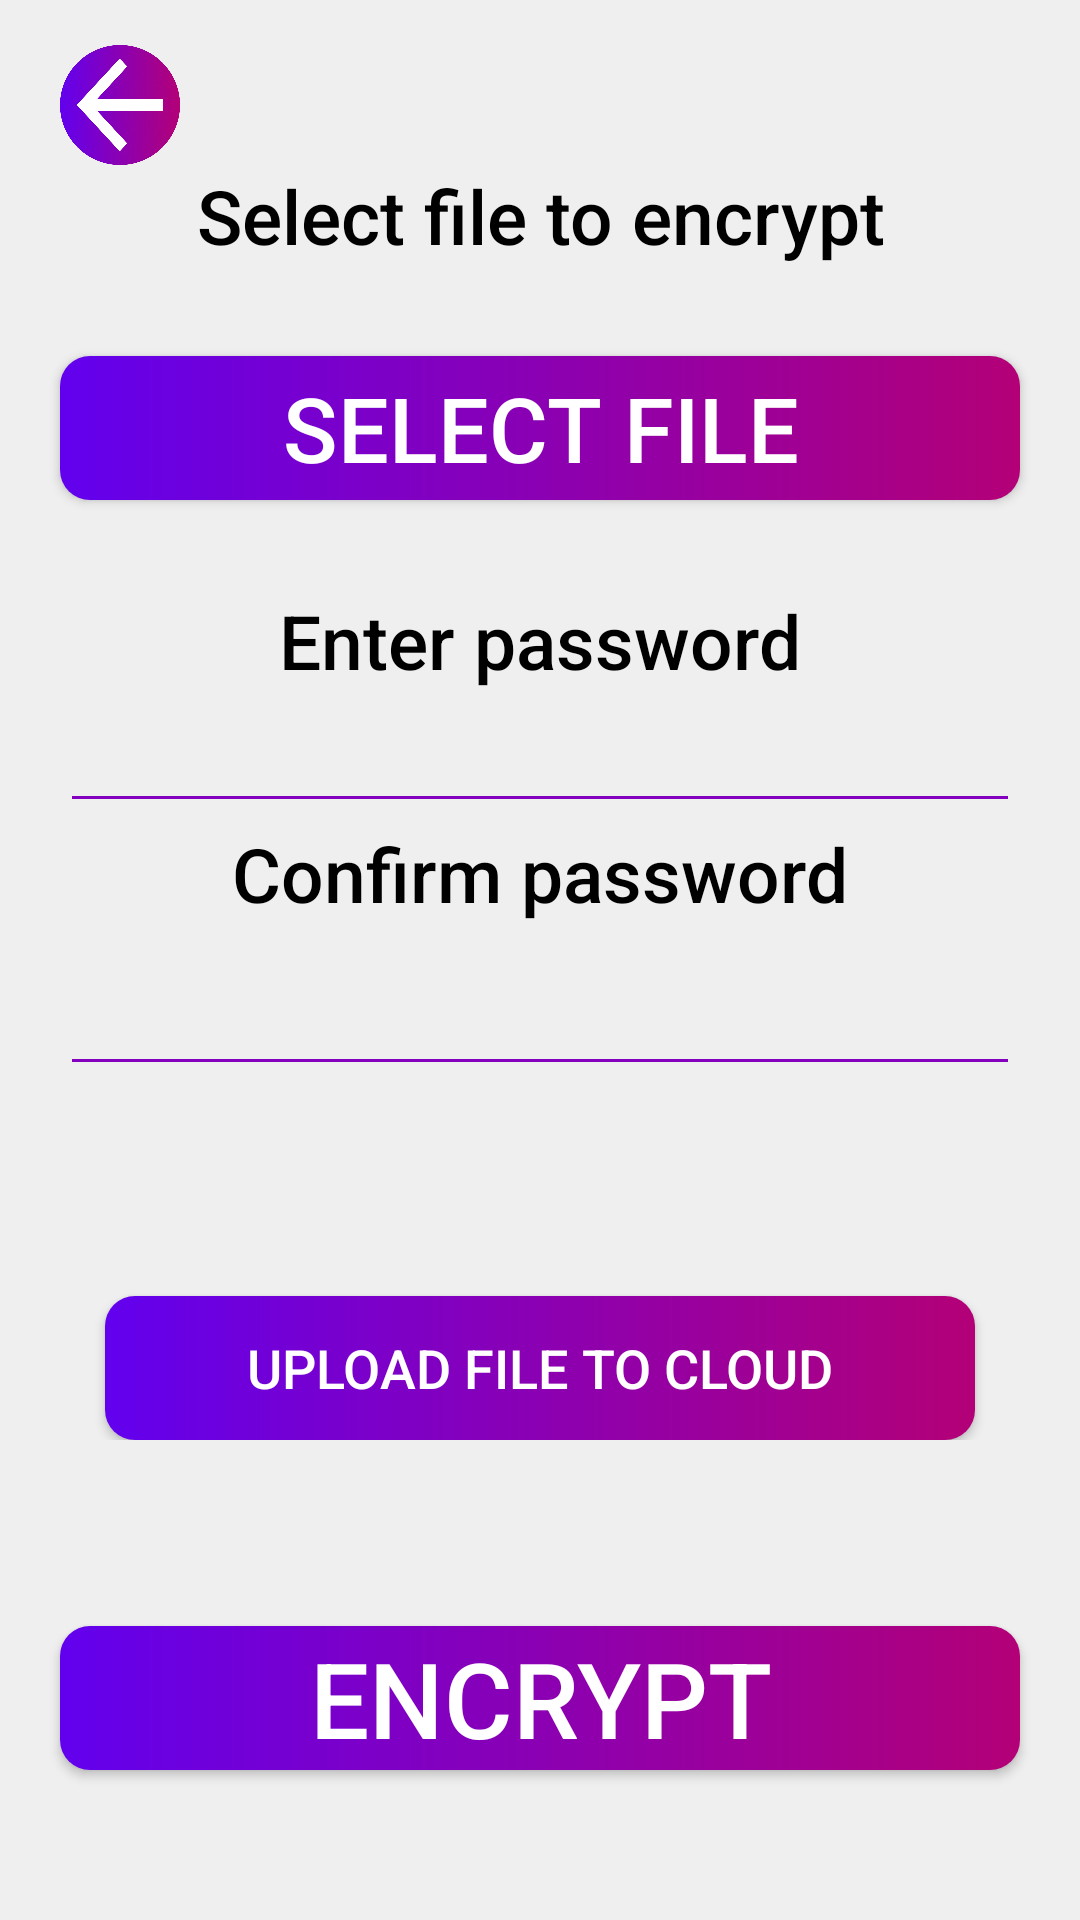

Screen size 1080x1920. Icon name, then its center in pixels as point (x, y):
back: point (120, 105)
